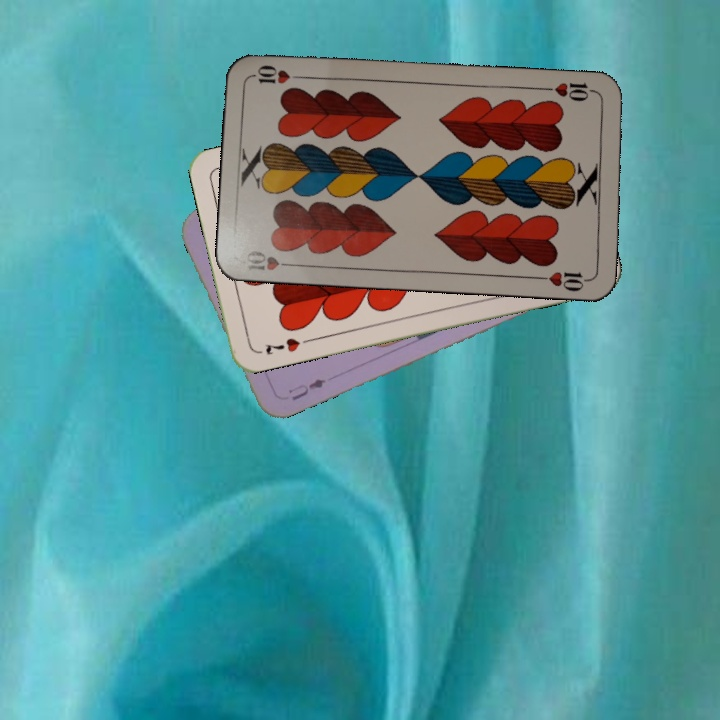EU: (284, 374, 328, 404)
H10: (242, 246, 299, 273), (540, 78, 599, 104)
H7: (261, 333, 303, 358)
